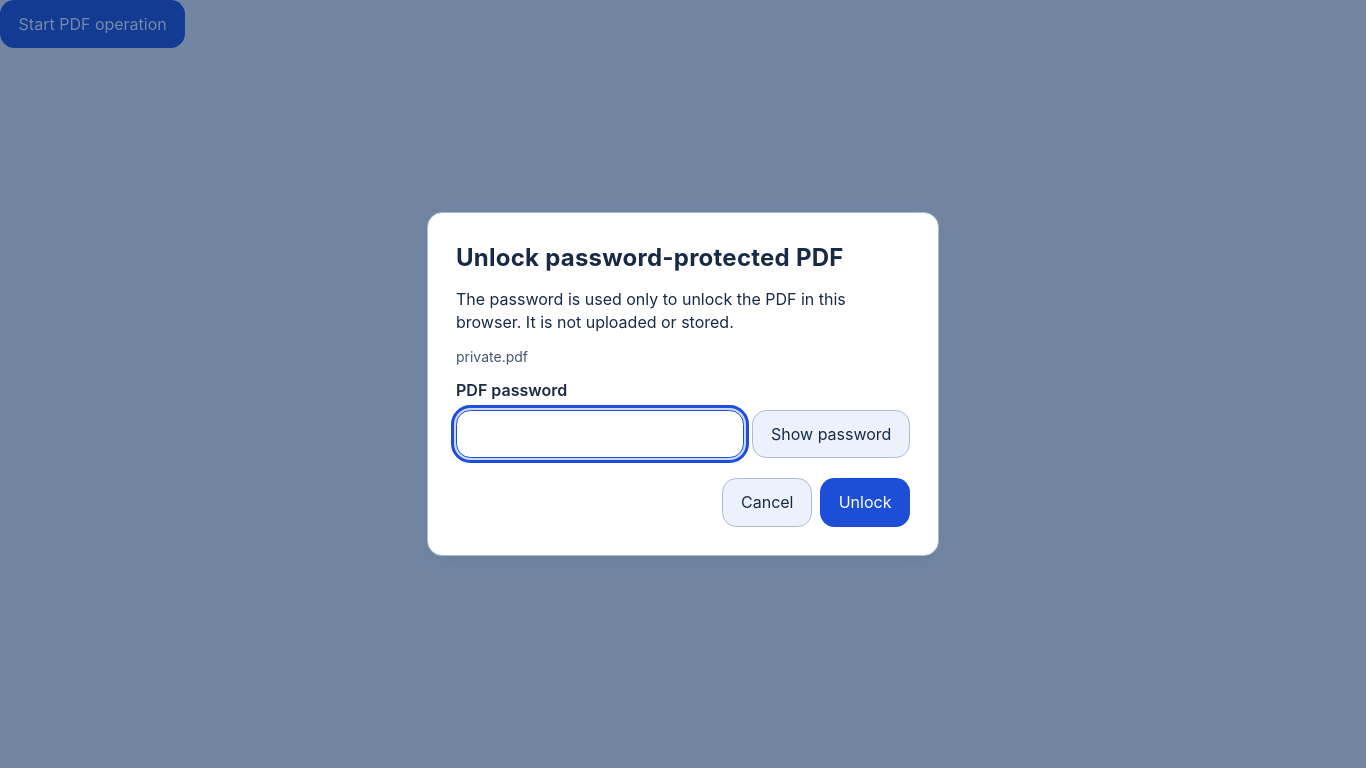
Test: PdfPasswordModal › focuses the password field, retries incorrect passwords, supports visibility and submits
Expected: the dialog "Unlock password-protected PDF" shows "private.pdf", [456,348,528,365]
Press Tab in the password field labelled "PDF password", box [456,410,744,458]
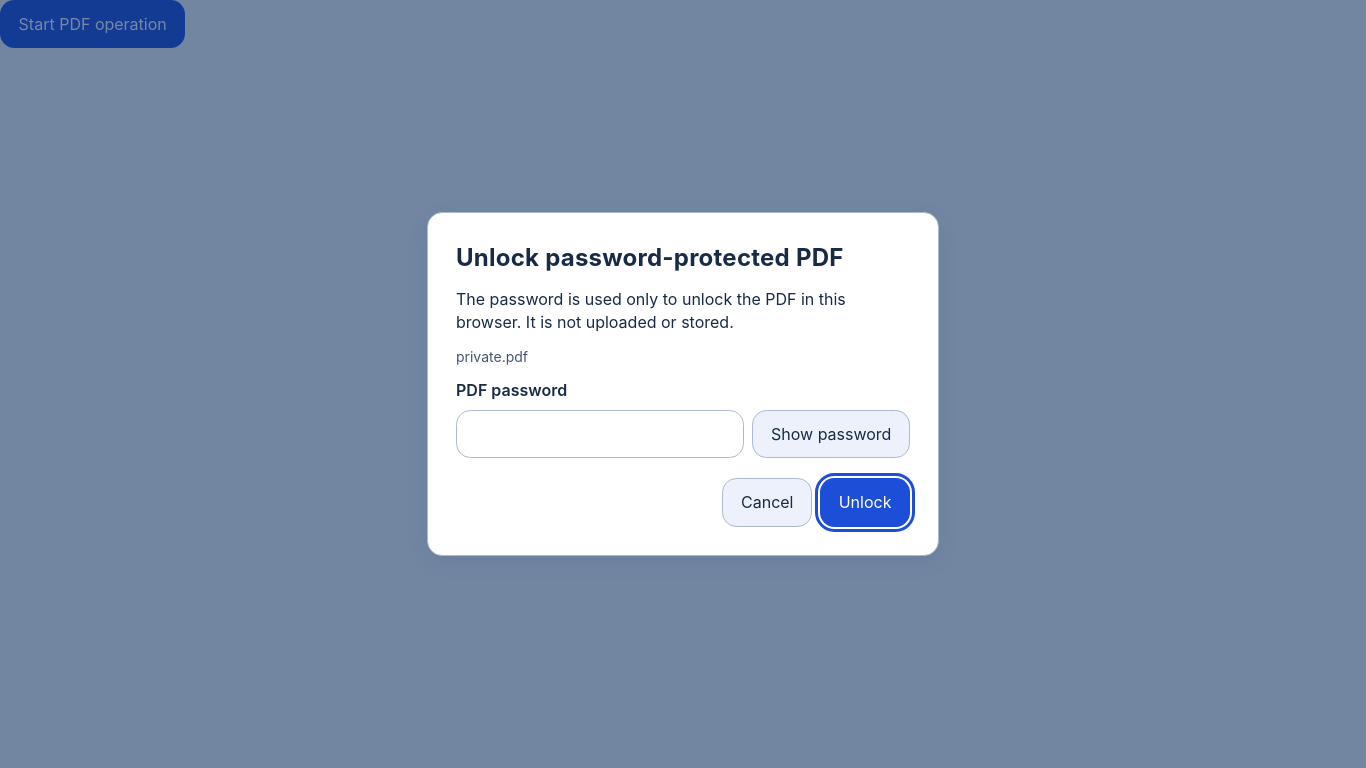
Press Tab in the button "Unlock", box [820,478,910,526]
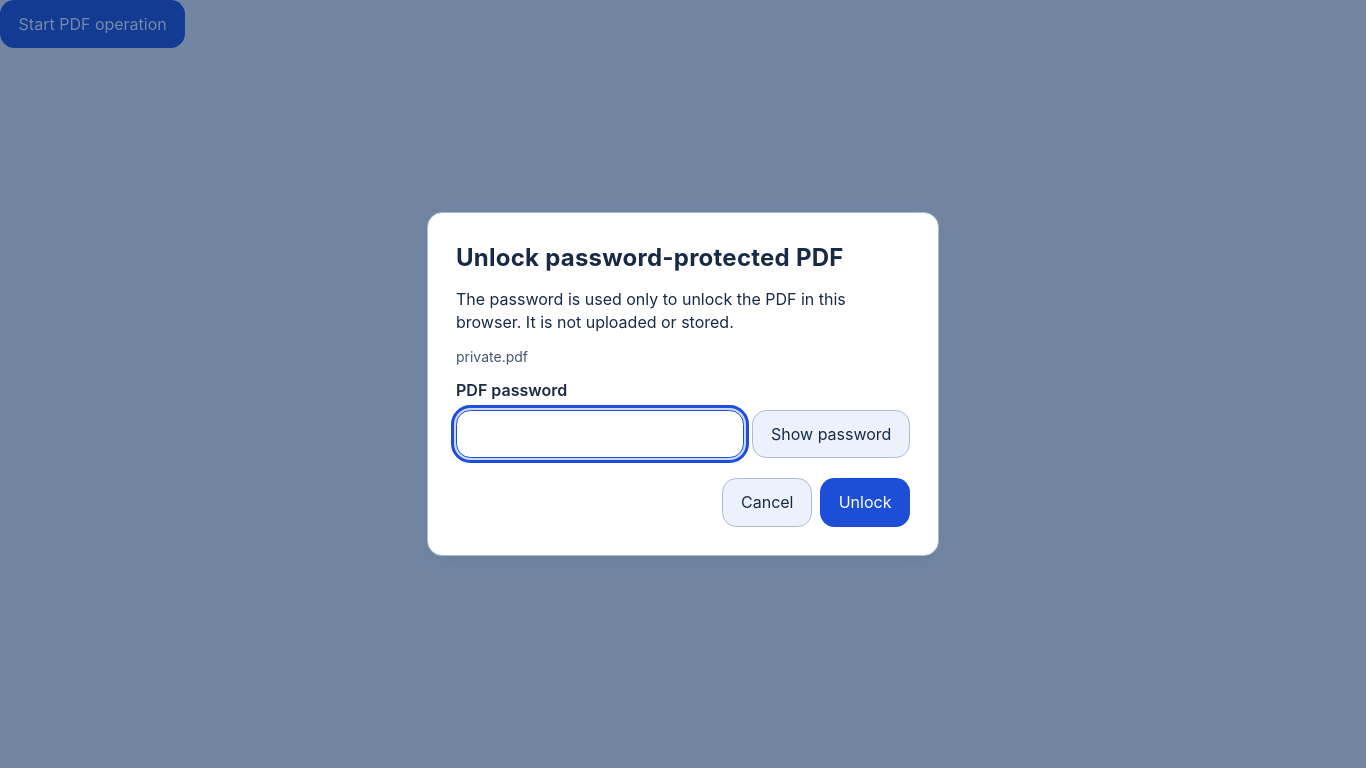
Click the button "Show password" at (831, 434), box [752,410,910,458]
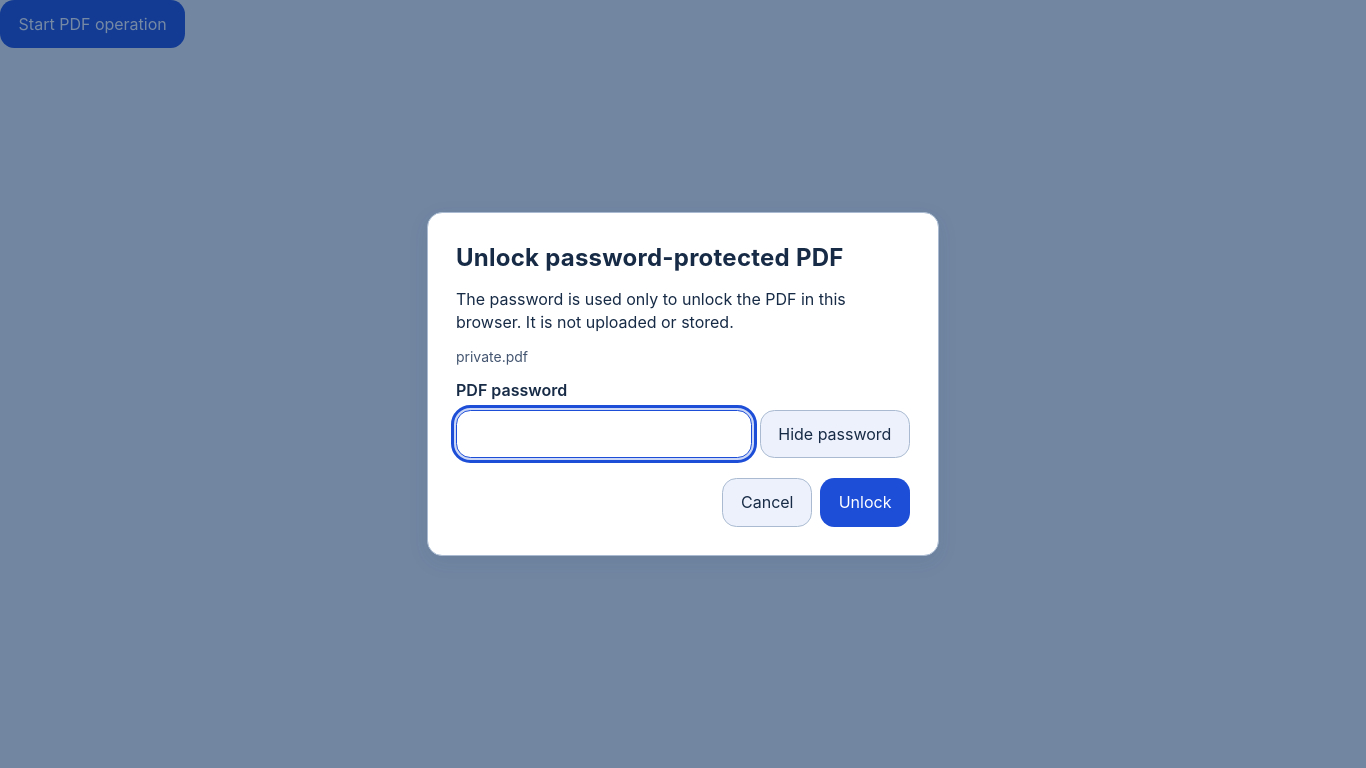
Result: the button "Hide password" is pressed at [760,410,910,458]
Type "incorrect" into the field labelled "PDF password" at (604, 434), box [456,410,752,458]
Click the button "Unlock" at (865, 502), box [820,478,910,526]
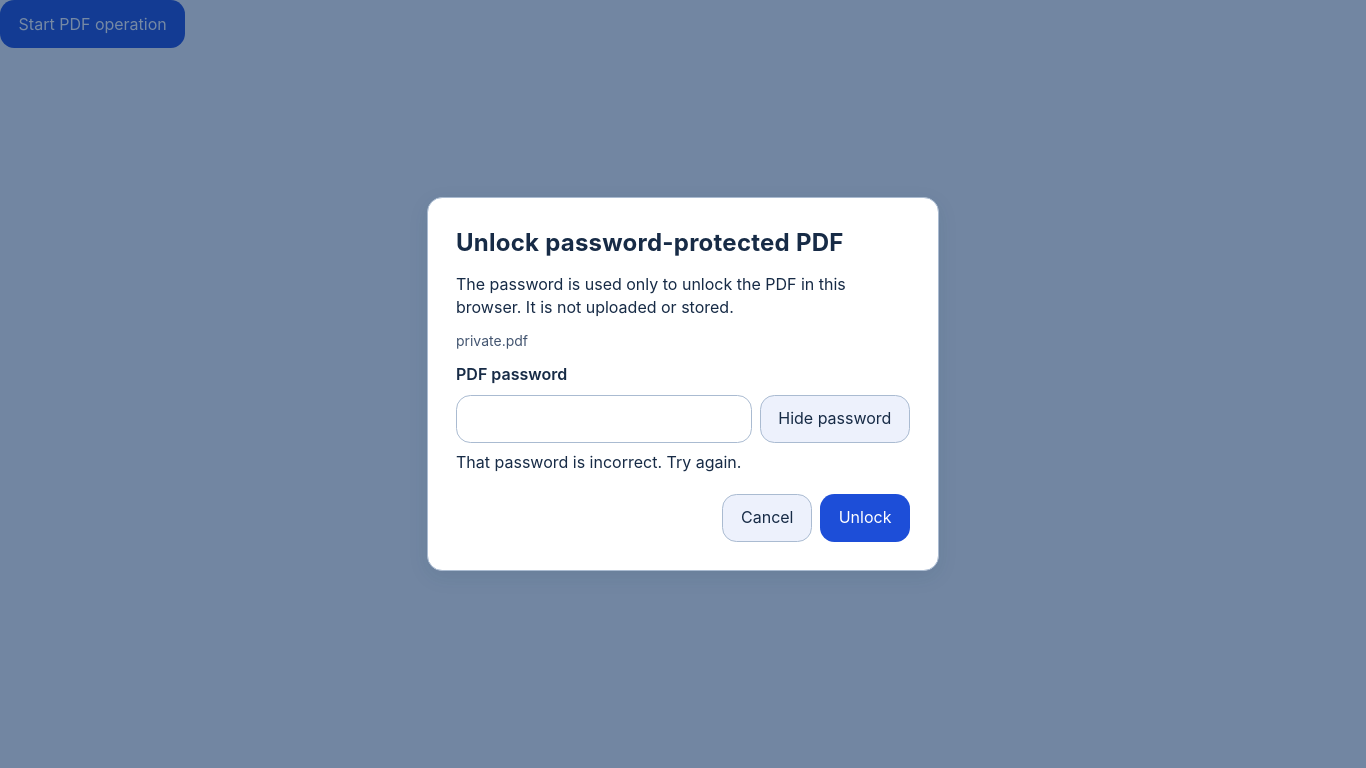
Result: the message reads "That password is incorrect. Try again." at [456,452,741,472]
Result: the field labelled "PDF password" is empty
Type "correct" into the field labelled "PDF password" at (604, 419), box [456,394,752,443]
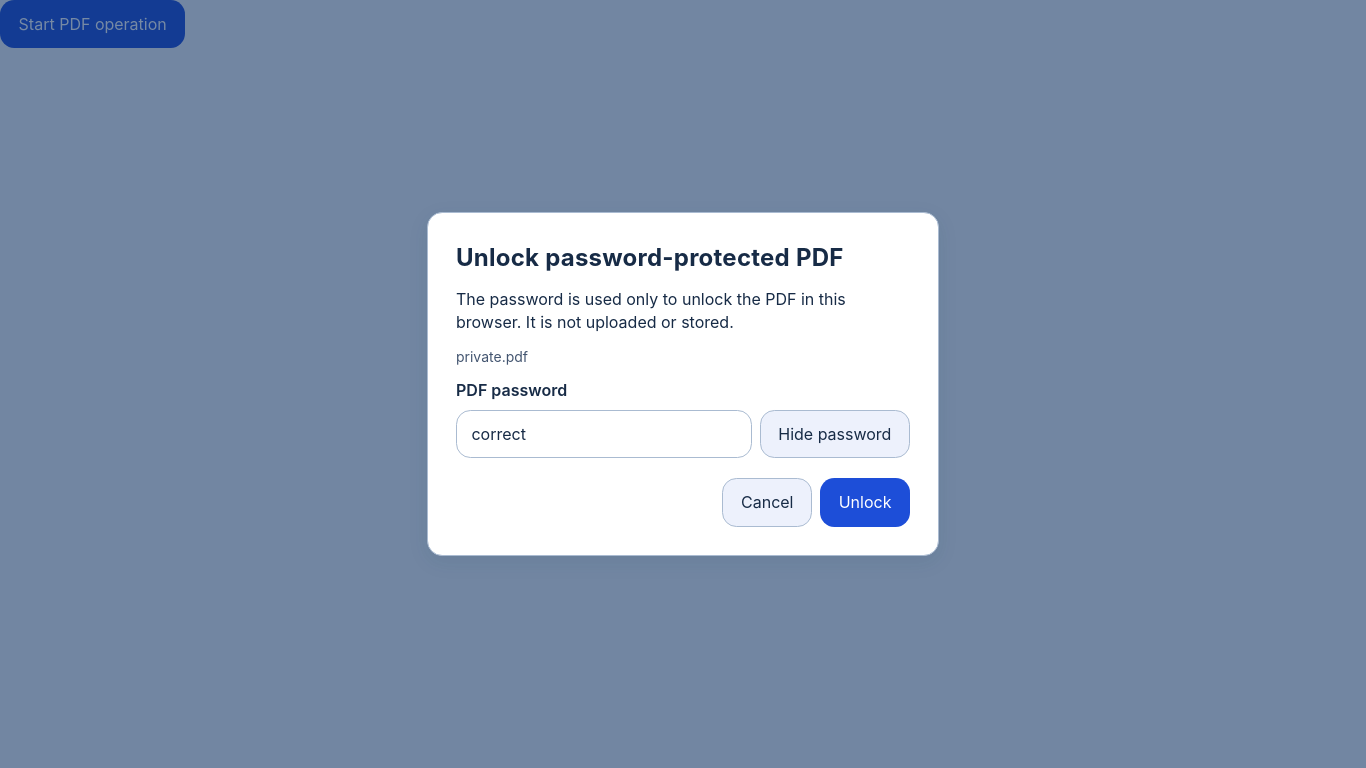
Submit the form labelled "PDF password", box [456,379,910,526]
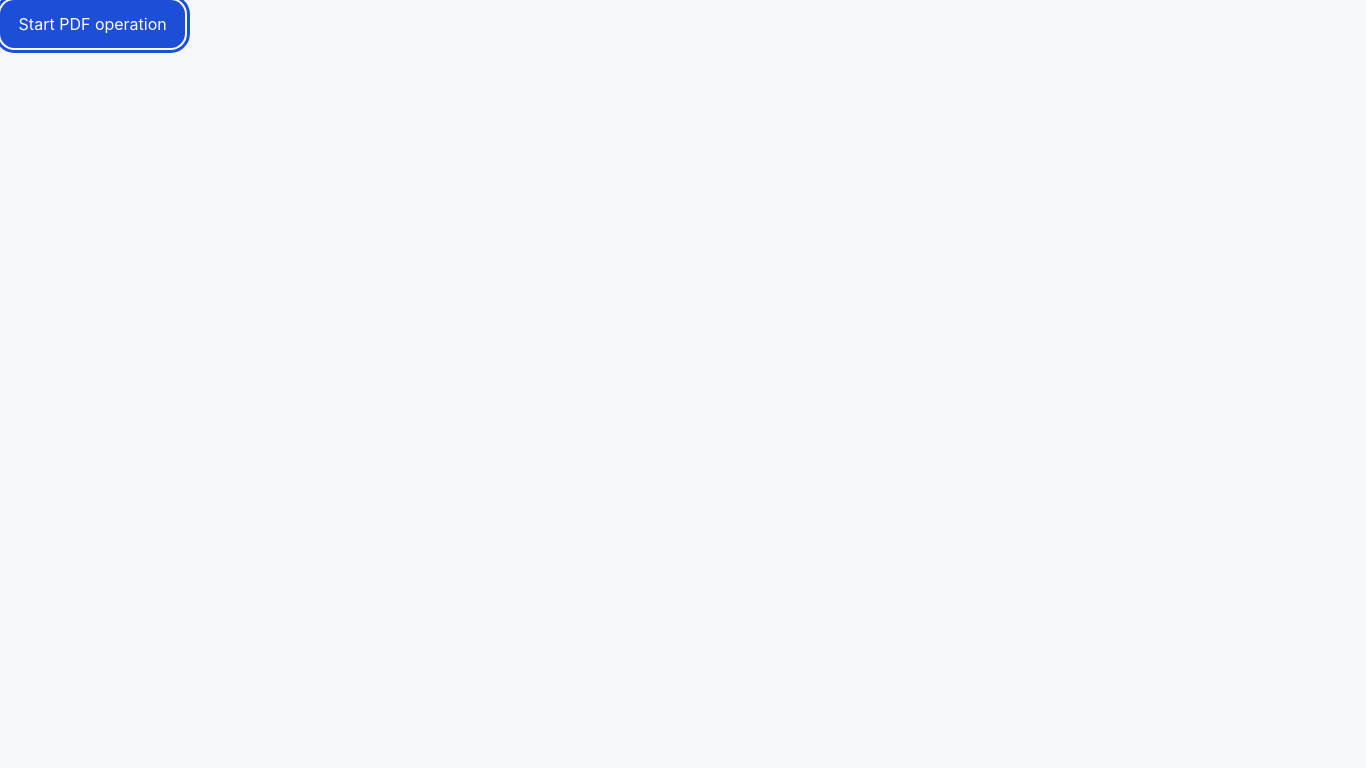
Result: the dialog is gone
